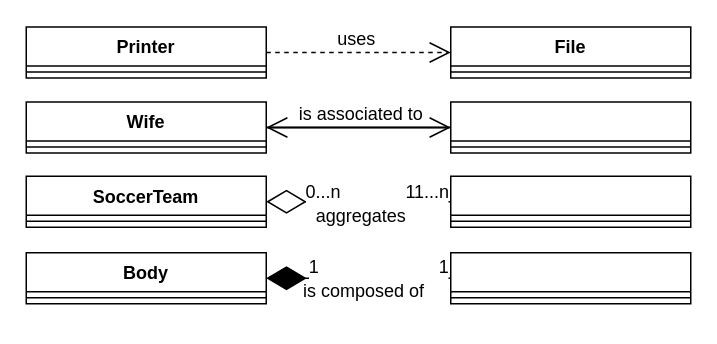
Some shapes in this 717 by 344 pixel diagram are drawn without their labels. Each missing label, with the centre of its shape:
"Head" belongs at [570,277].
"Husband" belongs at [570,126].
"SoccerPlayer" belongs at [570,201].
